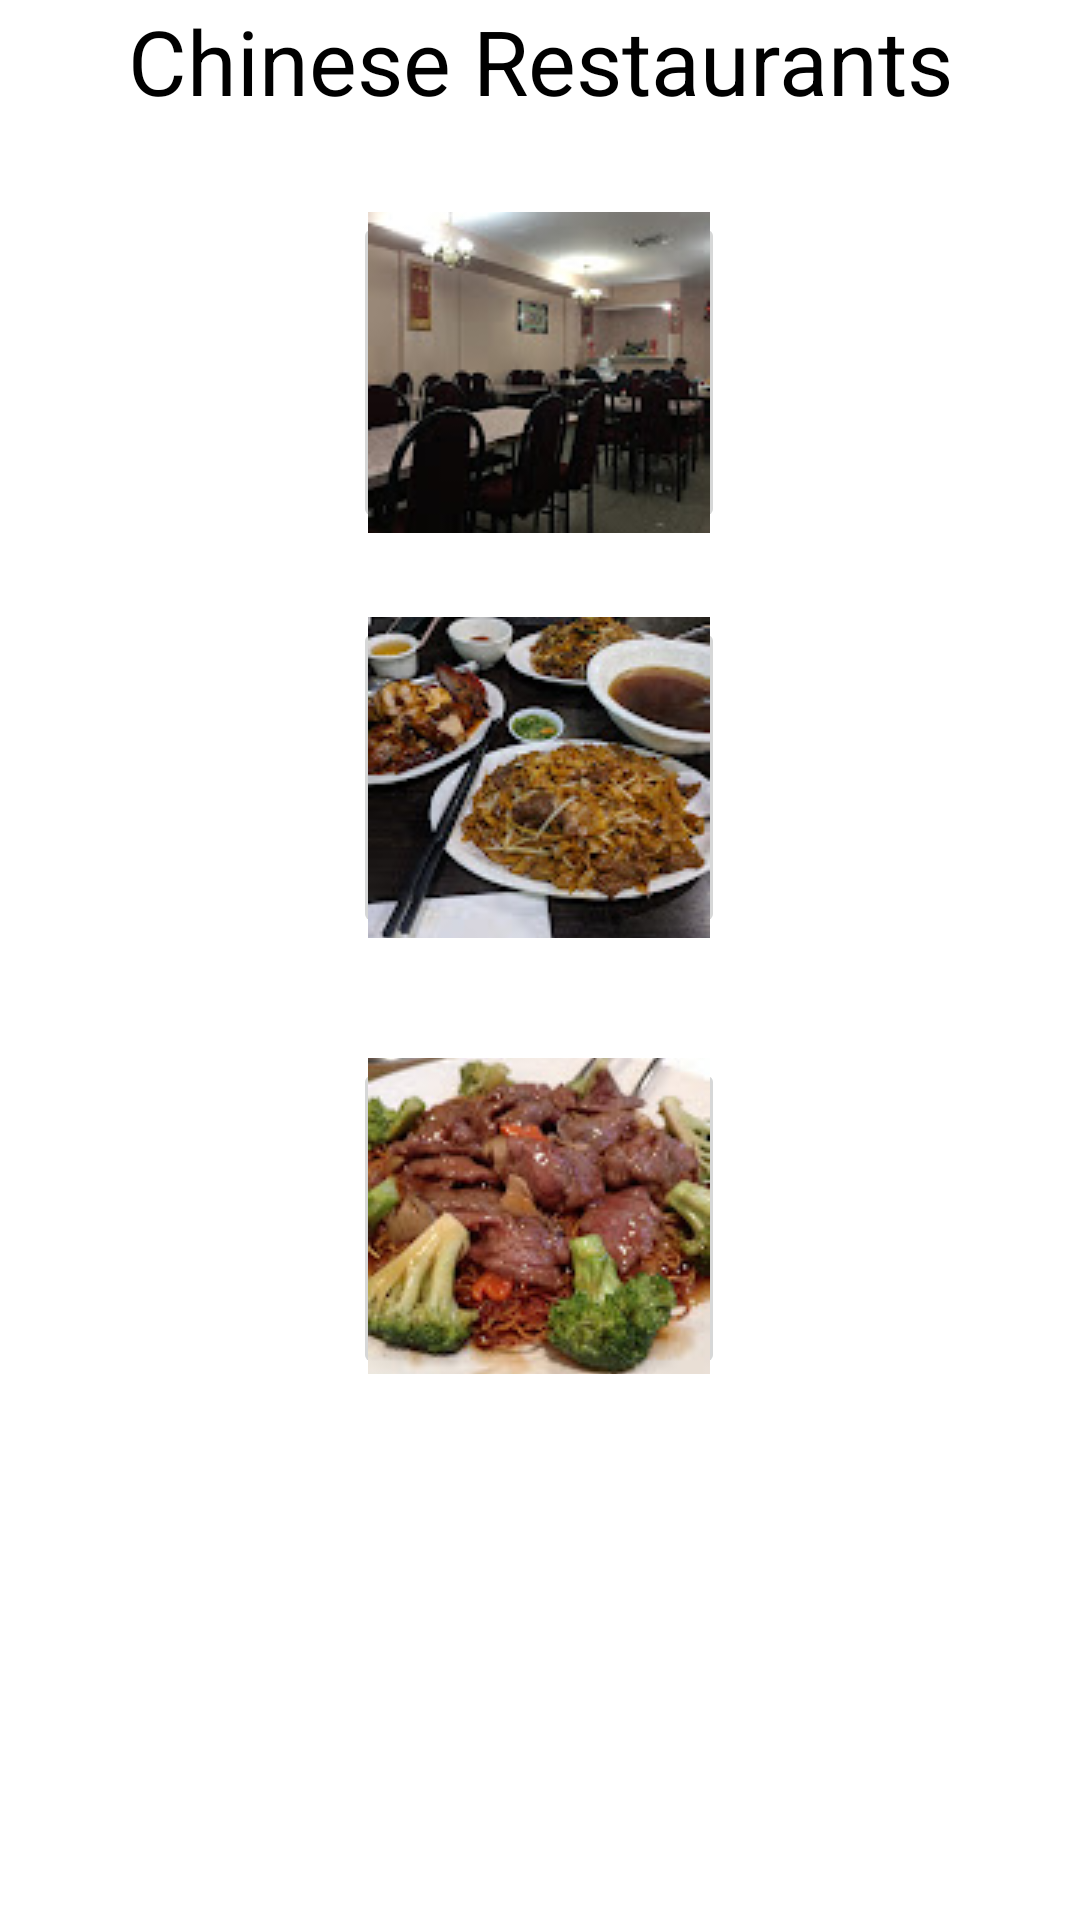

Where to tap for icons on this 1080px×1920px app screen, as (x=x, y=y):
chinesei: (x=539, y=777)
chineseii: (x=539, y=1216)
